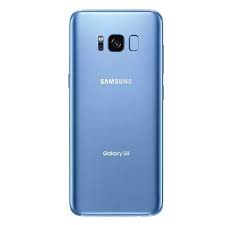samsung: (65, 7, 166, 216)
